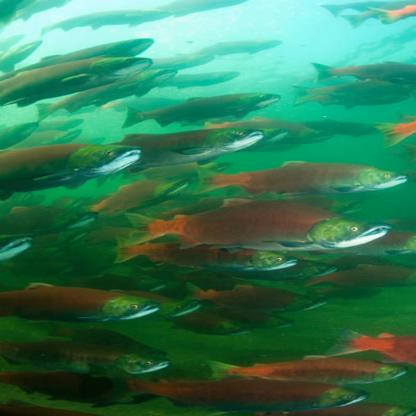sockeye: (148, 207, 395, 253), (4, 278, 195, 328), (30, 375, 356, 401), (202, 349, 401, 381), (0, 61, 145, 102), (10, 339, 184, 373), (5, 138, 121, 187), (210, 169, 412, 195), (142, 125, 266, 164)
sockeye-group: (9, 135, 408, 270), (1, 334, 407, 406), (24, 42, 402, 114)
